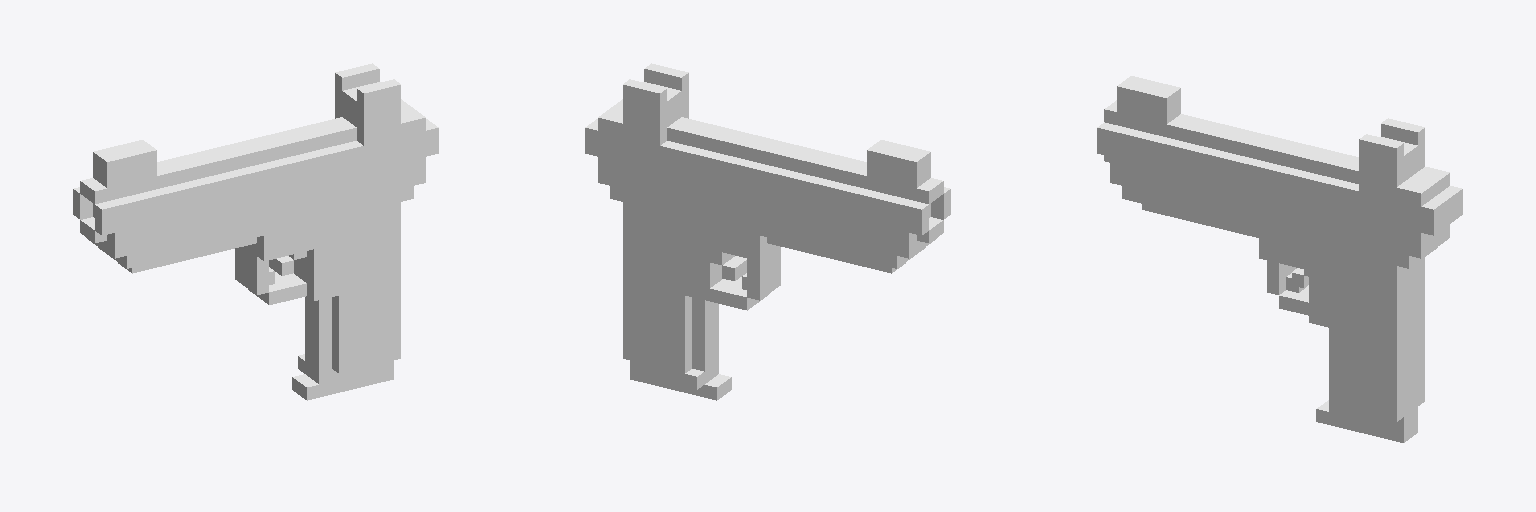
File: Wpistol.obj
3 renders of one model, left to right at view 1: azimuth 30°, elevation 25°; view 2: azimuth 150°, elevation 25°; view 3: azimuth 330°, elevation 25°, orthographic.
Parts seen in each view (by area): view 1: object 1; view 2: object 1; view 3: object 1.
Part boxes in pixels (bbox=[...]): object 1: bbox=[73, 63, 438, 400]; object 1: bbox=[585, 63, 950, 400]; object 1: bbox=[1097, 76, 1462, 442].
Size of the model in its own units: 2.7 by 2.3 by 0.4.